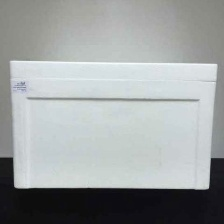foam_box: (6, 55, 222, 192)
